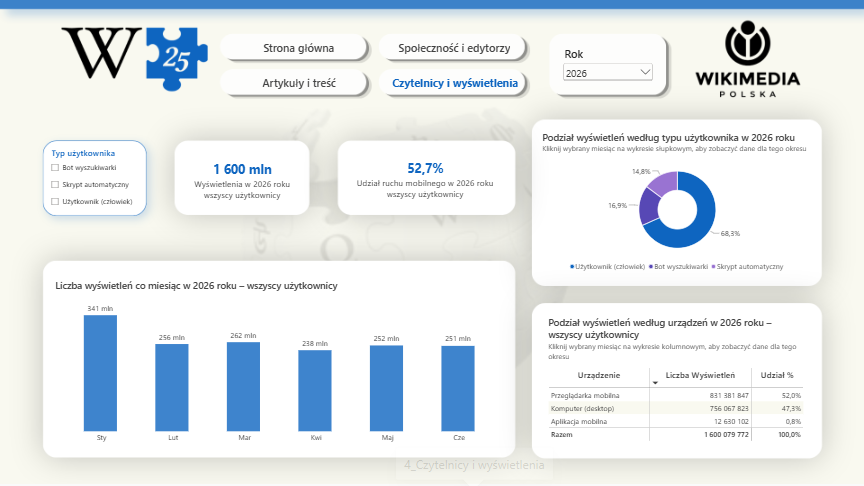

The dashboard page shown, as its layout file describes it:
{"tool":"powerbi","page":{"name":"4_Czytelnicy i wyświetlenia","canvas":[1920,1080],"ordinal":3},"visuals":[{"type":"actionButton","box":[524.5,77.7,278.6,58.3],"z":0},{"type":"actionButton","box":[550,155.5,227.3,57],"z":1000},{"type":"actionButton","box":[846.9,155.5,329.7,57],"z":2000},{"type":"actionButton","box":[845.3,74.3,329.8,65.5],"z":3000},{"type":"clusteredColumnChart","fields":{"Category":["DimDate.Miesiąc Skrót"],"Y":["_MEASURES.Wyswietlenia_mln"]},"box":[105.8,604.3,1033.3,400],"z":4000},{"type":"donutChart","fields":{"Category":["1_ogladalnosc_monthly_clean.Typ Użytkownika"],"Y":["Sum(1_ogladalnosc_monthly_clean.Liczba Wyświetleń)"]},"box":[1188,276.5,632.9,347.8],"z":5000},{"type":"slicer","title":"Rok","fields":{"Values":["DimDate.Rok"]},"box":[1246.3,101.5,208.9,86.7],"z":6000},{"type":"cardVisual","fields":{"Data":["_MEASURES.Wyswietlenia_mln"]},"box":[413,326.1,250.6,149],"z":7000},{"type":"tableEx","fields":{"Values":["1_ogladalnosc_monthly_clean.Urządzenie","Sum(1_ogladalnosc_monthly_clean.Liczba Wyświetleń)","Divide(Sum(1_ogladalnosc_monthly_clean.Liczba Wyświetleń), ScopedEval(Sum(1_ogladalnosc_monthly_clean.Liczba Wyświetleń)"]},"box":[1203.1,686.9,600.5,326.2],"z":8000},{"type":"cardVisual","fields":{"Data":["_MEASURES.Udział ruchu mobilnego"]},"box":[763.8,326.1,361.7,146.7],"z":9000},{"type":"slicer","fields":{"Values":["1_ogladalnosc_monthly_clean.Typ Użytkownika"]},"box":[107.2,326.1,209.5,140.4],"z":10000}]}

Visuals, with their boxes in screenshot pixels (x1, y1, x2, y2), scaled from the page's 1920x1080 canvas onto the 864x486 screenshot:
actionButton: rect(236, 35, 361, 61)
actionButton: rect(248, 70, 350, 96)
actionButton: rect(381, 70, 529, 96)
actionButton: rect(380, 33, 529, 63)
clusteredColumnChart - DimDate.Miesiąc Skrót x _MEASURES.Wyswietlenia_mln: rect(48, 272, 513, 452)
donutChart - 1_ogladalnosc_monthly_clean.Typ Użytkownika x Sum(1_ogladalnosc_monthly_clean.Liczba Wyświetleń): rect(535, 124, 819, 281)
"Rok" slicer: rect(561, 46, 655, 85)
cardVisual - _MEASURES.Wyswietlenia_mln: rect(186, 147, 299, 214)
tableEx - 1_ogladalnosc_monthly_clean.Urządzenie x Sum(1_ogladalnosc_monthly_clean.Liczba Wyświetleń): rect(541, 309, 812, 456)
cardVisual - _MEASURES.Udział ruchu mobilnego: rect(344, 147, 506, 213)
slicer - 1_ogladalnosc_monthly_clean.Typ Użytkownika: rect(48, 147, 143, 210)
